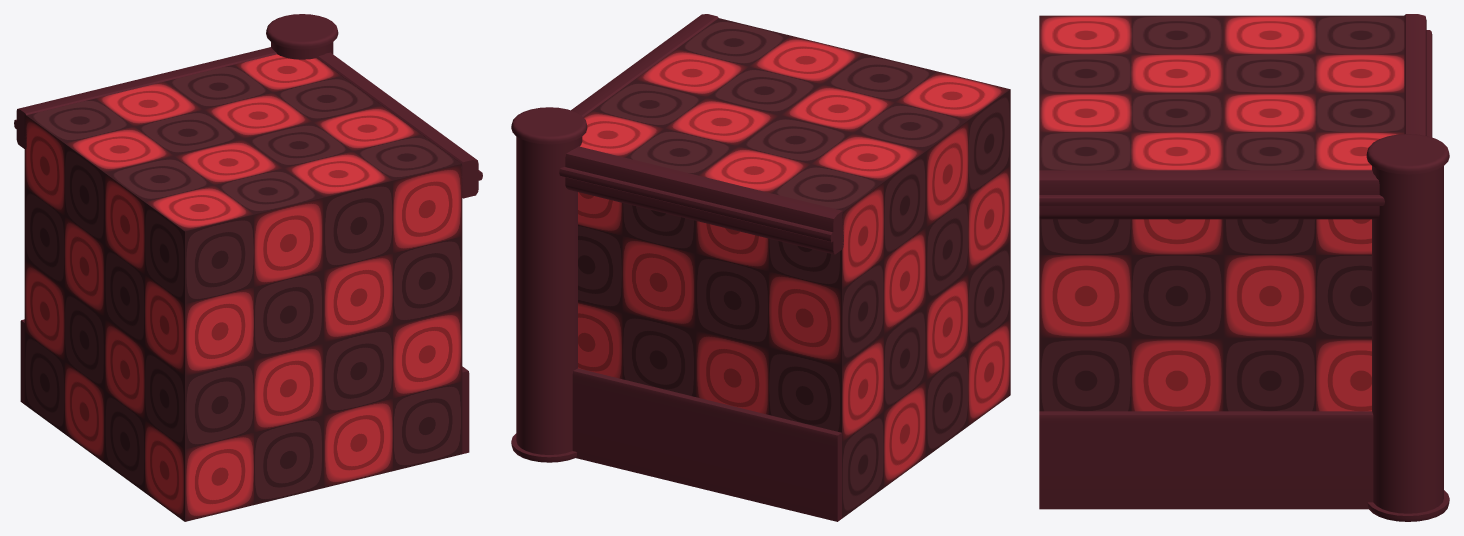
File: platforma_rog_LGB_LD_UV2.fbx
3 renders of one model, left to right at view 1: azimuth 30°, elevation 25°; view 2: azimuth 150°, elevation 25°; view 3: azimuth 270°, elevation 25°, orthographic. The views are drawn at different scales.
Visible parts, largest first — view 1: platforma_rog_LGB_LDA_KA.001, listwa_LGB.016, listwa_LGB.015, kolumna_A.007, listwa_dol.026; view 2: platforma_rog_LGB_LDA_KA.001, listwa_dol.025, kolumna_A.007, listwa_LGB.015, listwa_LGB.016; view 3: platforma_rog_LGB_LDA_KA.001, listwa_dol.026, kolumna_A.007, listwa_LGB.016, listwa_LGB.015.
Part boxes in pixels (bbox=[...]): platforma_rog_LGB_LDA_KA.001: bbox=[24, 54, 462, 521]; listwa_LGB.016: bbox=[317, 52, 482, 198]; listwa_LGB.015: bbox=[14, 47, 276, 149]; kolumna_A.007: bbox=[266, 14, 338, 59]; listwa_dol.026: bbox=[462, 366, 469, 453]; platforma_rog_LGB_LDA_KA.001: bbox=[578, 18, 1010, 518]; listwa_dol.025: bbox=[572, 368, 841, 521]; kolumna_A.007: bbox=[511, 107, 587, 462]; listwa_LGB.015: bbox=[559, 146, 843, 254]; listwa_LGB.016: bbox=[571, 14, 718, 116]; platforma_rog_LGB_LDA_KA.001: bbox=[1039, 15, 1404, 411]; listwa_dol.026: bbox=[1039, 411, 1373, 509]; kolumna_A.007: bbox=[1366, 134, 1449, 521]; listwa_LGB.016: bbox=[1039, 170, 1384, 219]; listwa_LGB.015: bbox=[1404, 14, 1432, 137].
Size of the model in its own units: 890 by 850 by 890.
Materials: 2 (2 with a texture image).
